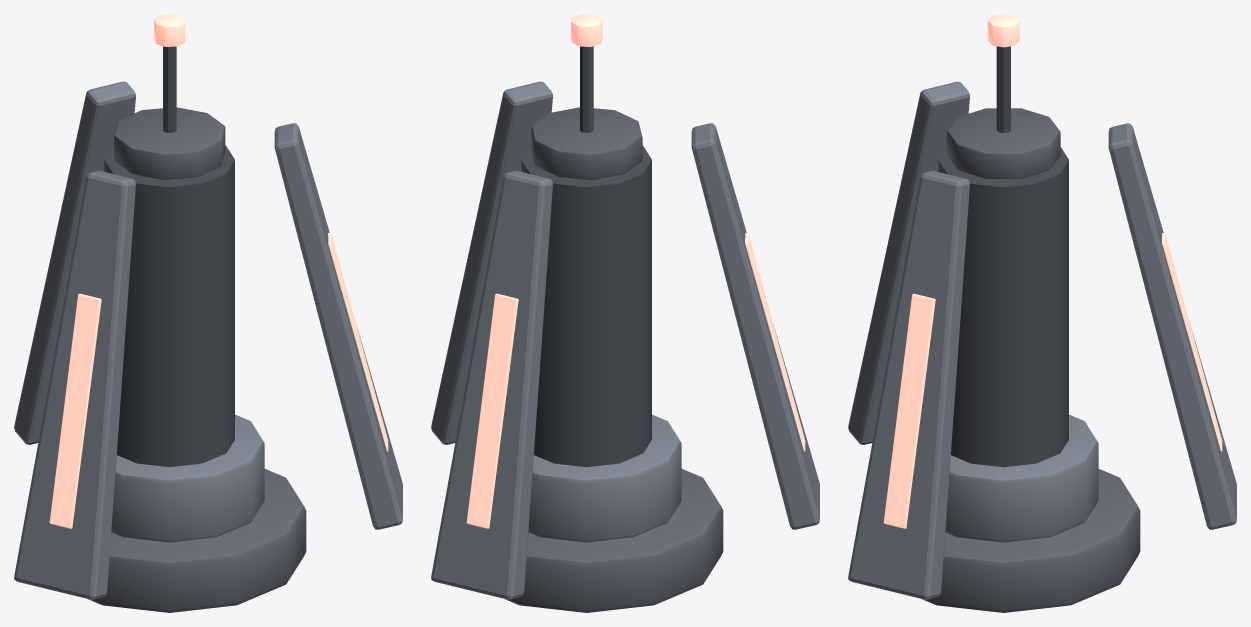
The model's file is prop_spike.glb.
3 views of the same model, side by side, from view 1: azimuth 30°, elevation 25°; view 2: azimuth 150°, elevation 25°; view 3: azimuth 270°, elevation 25° (orthographic).
Parts seen in each view (by area): view 1: prop_spike_v2; view 2: prop_spike_v2; view 3: prop_spike_v2.
Boxes of the visible parts, bbox=[...] form: prop_spike_v2: bbox=[14, 14, 402, 612]; prop_spike_v2: bbox=[431, 14, 819, 612]; prop_spike_v2: bbox=[848, 14, 1236, 612].
Bounding box in the file's own units: 0.3766 × 0.5 × 0.3273.
